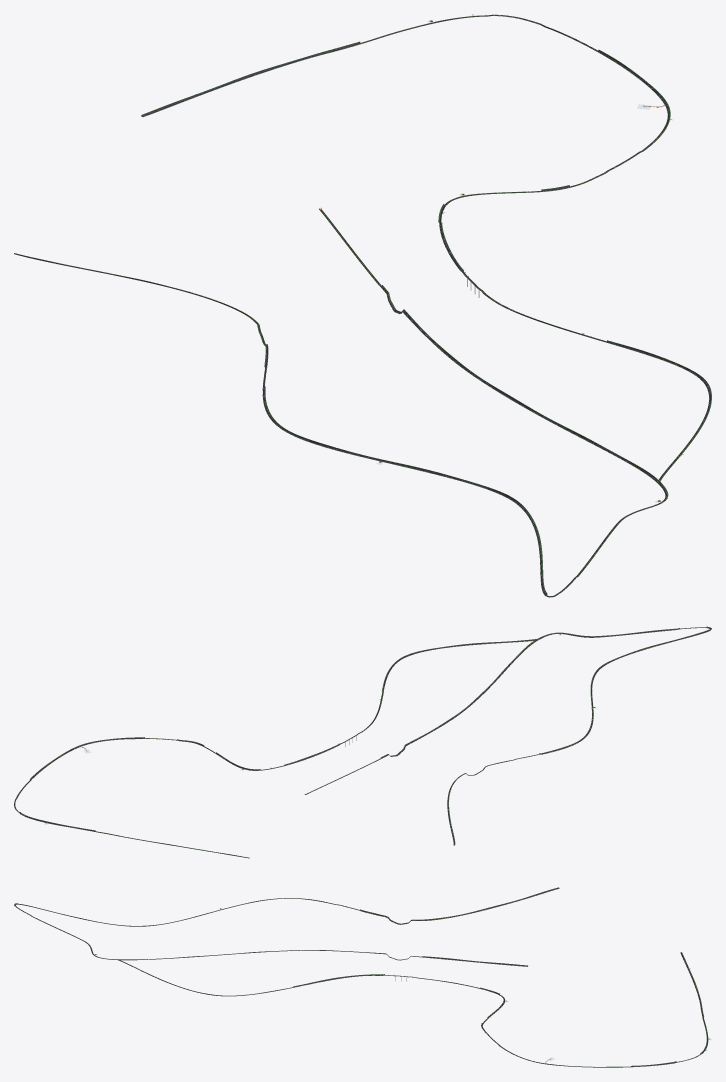
Rendered from cau_can_dien_gio_cau_dat_va_deo_doi_che_tram_hanh.glb.
3 views of the same model, one above another, from view 1: azimuth 30°, elevation 25°; view 2: azimuth 150°, elevation 25°; view 3: azimuth 270°, elevation 25° (orthographic). The views are drawn at different scales.
Parts seen in each view (by area): view 1: CauDat_WindFarm_Asphalt_Carriageway, CauDat_Split_Granite_Retaining_Taluy, CauDat_Plateau_Basalt_Cut_Slopes, CauDat_Tea_Terrace_Verge_Benches; view 2: CauDat_WindFarm_Asphalt_Carriageway, CauDat_Split_Granite_Retaining_Taluy, CauDat_Plateau_Basalt_Cut_Slopes, CauDat_Tea_Terrace_Verge_Benches; view 3: CauDat_Plateau_Basalt_Cut_Slopes, CauDat_Tea_Terrace_Verge_Benches, CauDat_WindFarm_Asphalt_Carriageway, CauDat_Split_Granite_Retaining_Taluy.
Boxes of the visible parts, x1,y1,x2,y2 form: CauDat_WindFarm_Asphalt_Carriageway: (77, 15, 710, 595); CauDat_Split_Granite_Retaining_Taluy: (14, 15, 711, 597); CauDat_Plateau_Basalt_Cut_Slopes: (14, 15, 711, 597); CauDat_Tea_Terrace_Verge_Benches: (14, 15, 711, 596); CauDat_WindFarm_Asphalt_Carriageway: (14, 627, 710, 850); CauDat_Split_Granite_Retaining_Taluy: (15, 627, 710, 858); CauDat_Plateau_Basalt_Cut_Slopes: (17, 626, 711, 858); CauDat_Tea_Terrace_Verge_Benches: (16, 626, 711, 857); CauDat_Plateau_Basalt_Cut_Slopes: (14, 887, 706, 1067); CauDat_Tea_Terrace_Verge_Benches: (14, 887, 706, 1066); CauDat_WindFarm_Asphalt_Carriageway: (15, 888, 708, 1066); CauDat_Split_Granite_Retaining_Taluy: (15, 888, 707, 1067).
Bounding box in the file's own units: 4997 × 114 × 8219.
